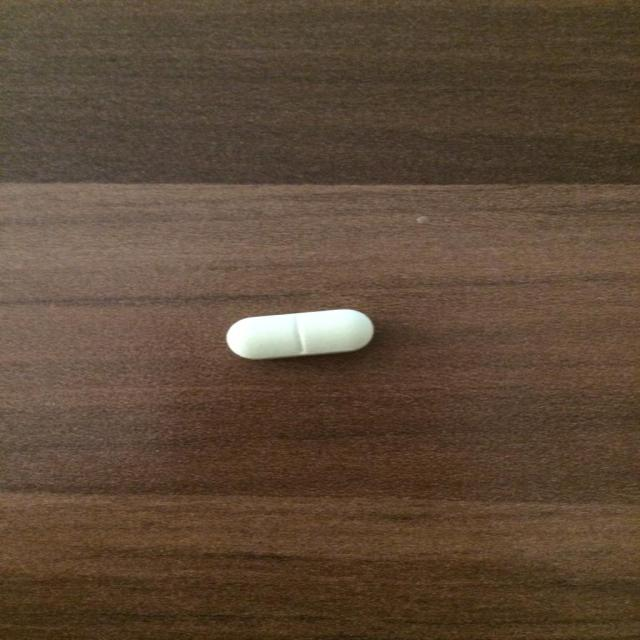pills: (212, 298, 395, 366)
